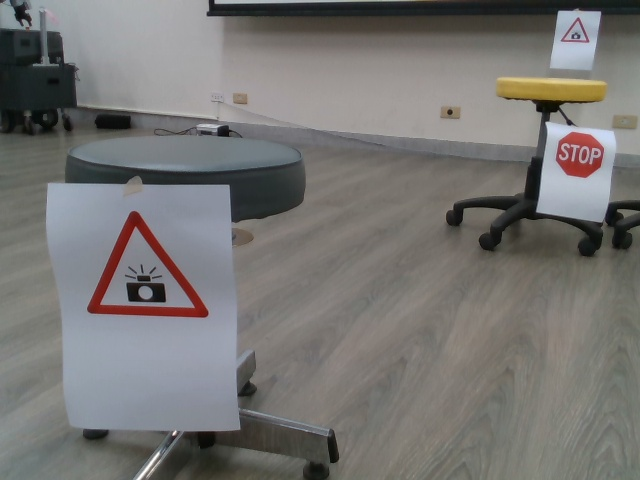camera: (86, 212, 211, 320)
stop: (554, 129, 606, 183)
